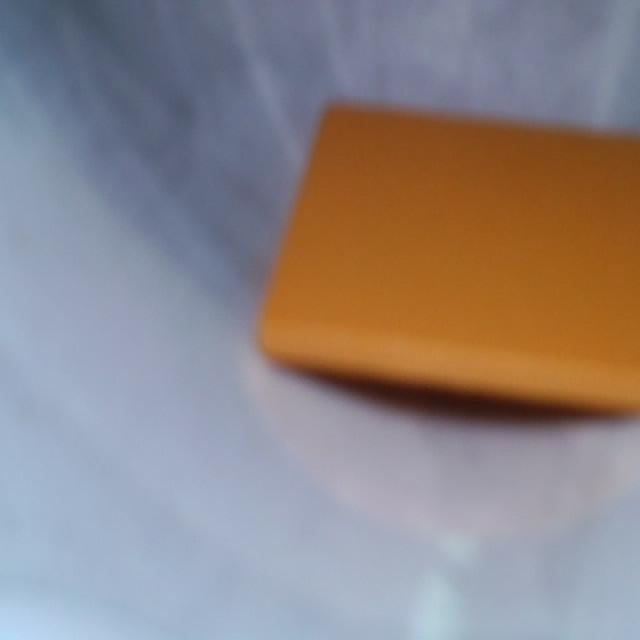square: (258, 108, 639, 409)
